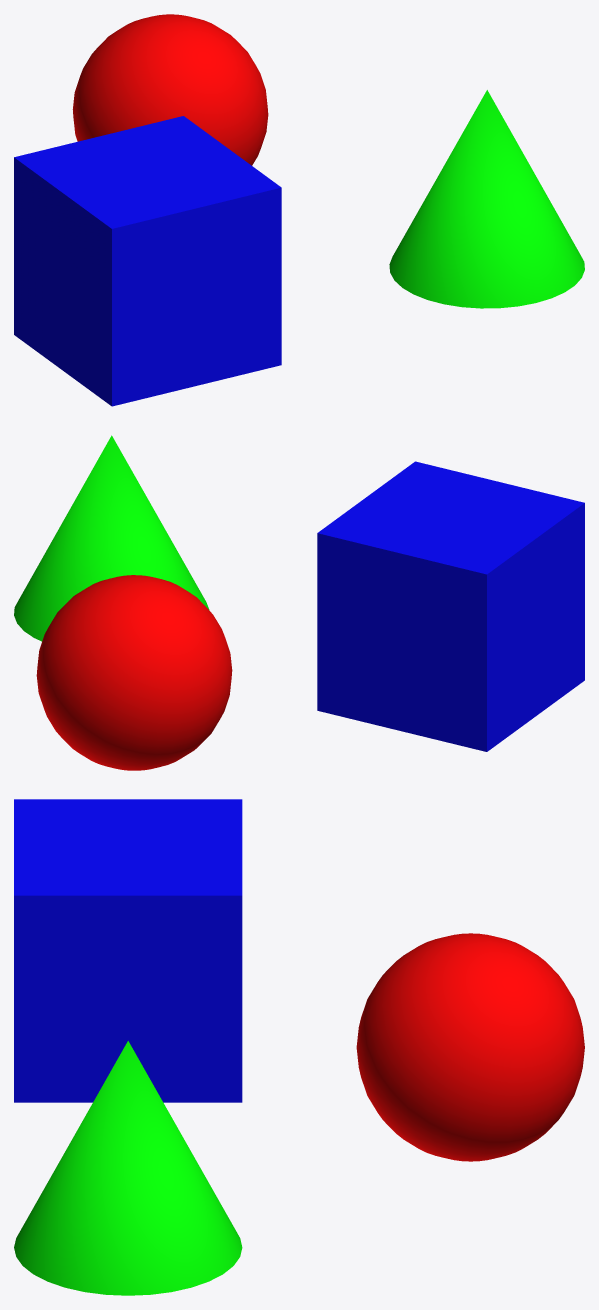
File: three_objects.obj
3 renders of one model, top to bottom at view 1: azimuth 30°, elevation 25°; view 2: azimuth 150°, elevation 25°; view 3: azimuth 270°, elevation 25°, orthographic. The views are drawn at different scales.
Parts seen in each view (by area): view 1: Cube, Cone, Sphere; view 2: Cube, Sphere, Cone; view 3: Cube, Sphere, Cone.
Boxes of the visible parts, <box> form: Cube: <box>14,116,281,406</box>; Cone: <box>389,90,584,308</box>; Sphere: <box>72,14,268,165</box>; Cube: <box>317,461,584,751</box>; Sphere: <box>36,575,232,770</box>; Cone: <box>14,435,209,641</box>; Cube: <box>14,799,242,1102</box>; Sphere: <box>356,933,584,1161</box>; Cone: <box>14,1041,242,1295</box>.
Size of the model in its own units: 6 by 2 by 5.
